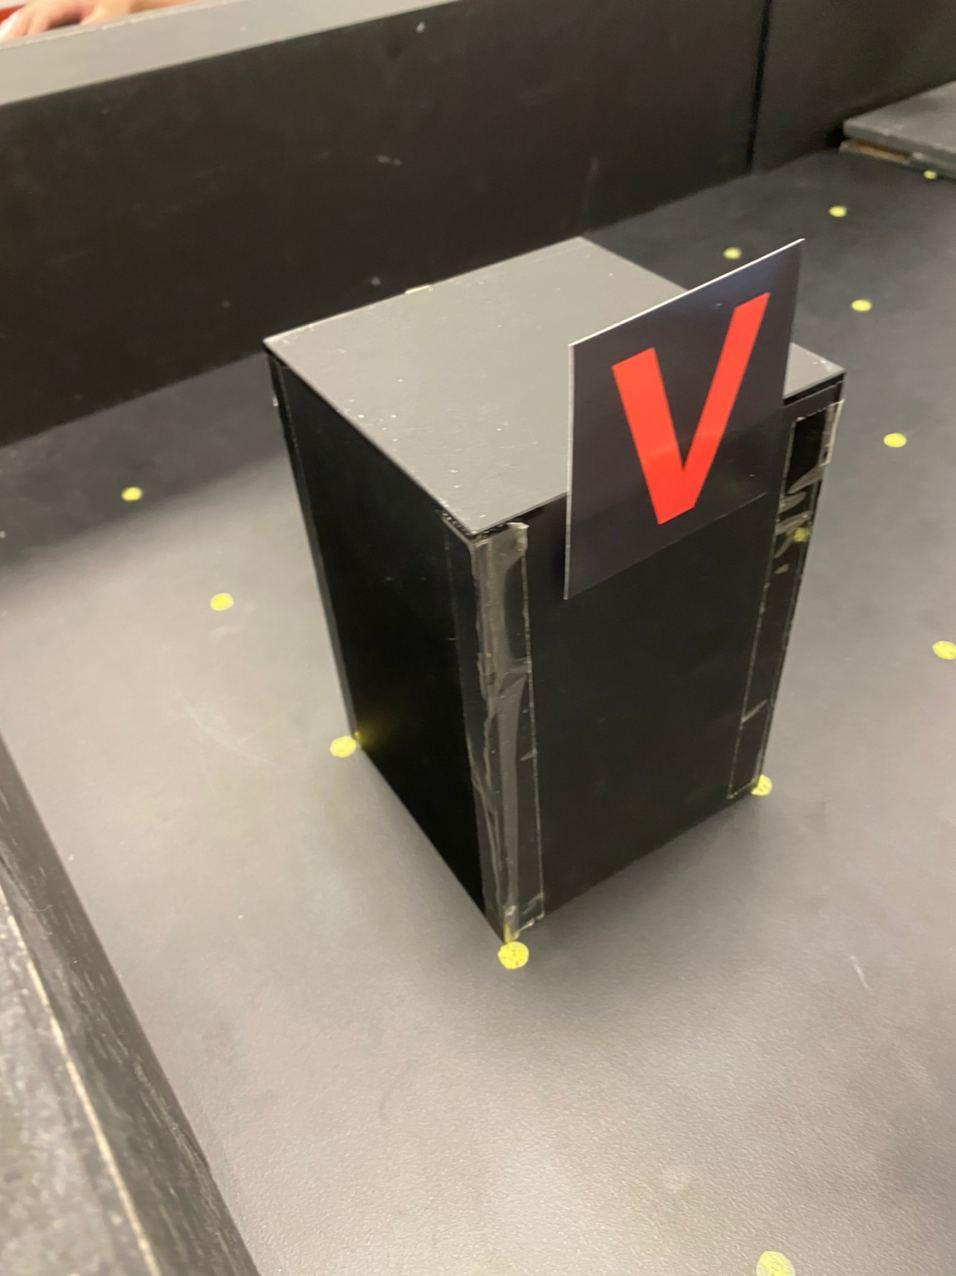v: (604, 322, 771, 529)
